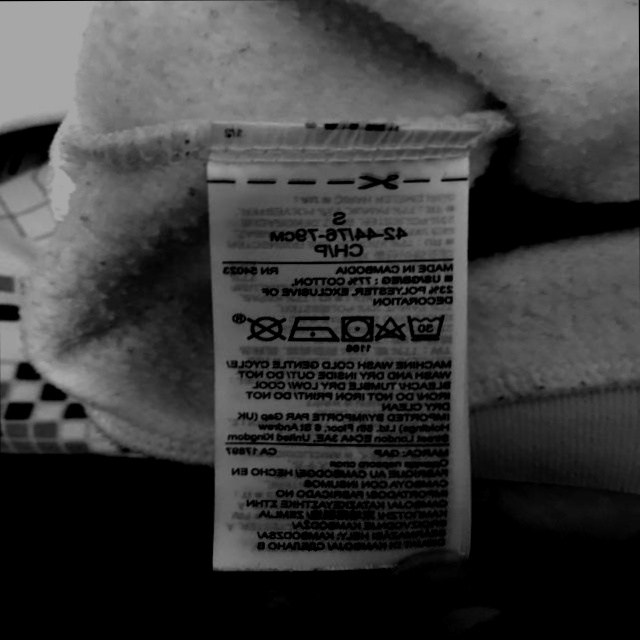30C: (406, 314, 448, 344)
DN_bleach: (377, 315, 408, 341)
DN_dry_clean: (246, 313, 288, 345)
iron_low: (288, 313, 340, 346)
tumble_dry_low: (338, 312, 377, 344)
